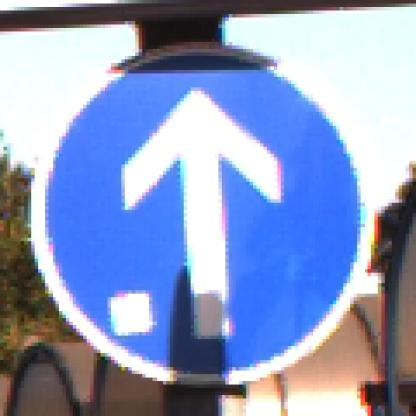AheadOnly: (36, 36, 379, 382)
